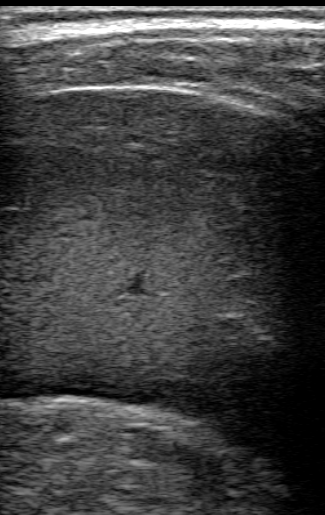irrelevant: (1, 1, 325, 39)
